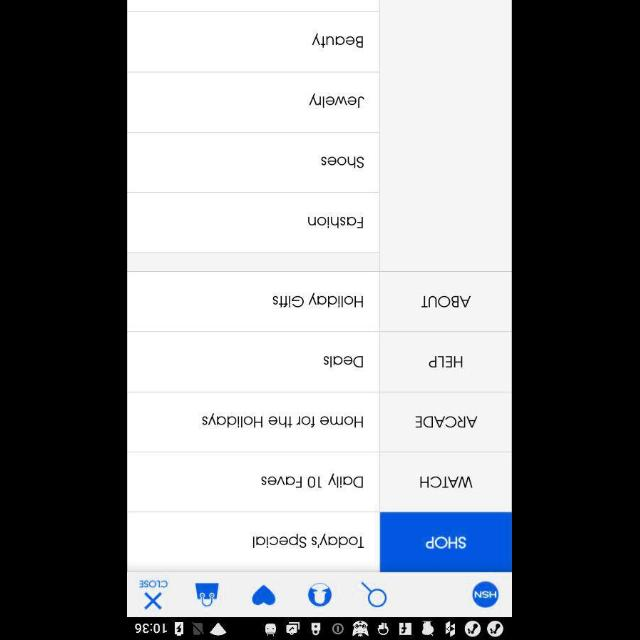icon: (361, 581, 387, 607), (308, 582, 332, 606), (196, 582, 220, 606), (252, 584, 276, 606), (144, 591, 164, 609)
image: (472, 580, 500, 608)
text: (203, 412, 364, 428), (253, 532, 365, 548), (260, 473, 364, 489), (273, 292, 365, 308), (416, 414, 478, 428), (309, 94, 365, 108), (312, 34, 364, 48), (421, 294, 471, 308), (308, 216, 364, 228), (420, 476, 474, 488), (425, 535, 467, 549), (322, 155, 364, 169), (324, 354, 364, 368), (429, 354, 463, 368), (140, 578, 168, 588)
toolbar: (128, 572, 512, 616)
uppertaskbar: (128, 617, 512, 639)
